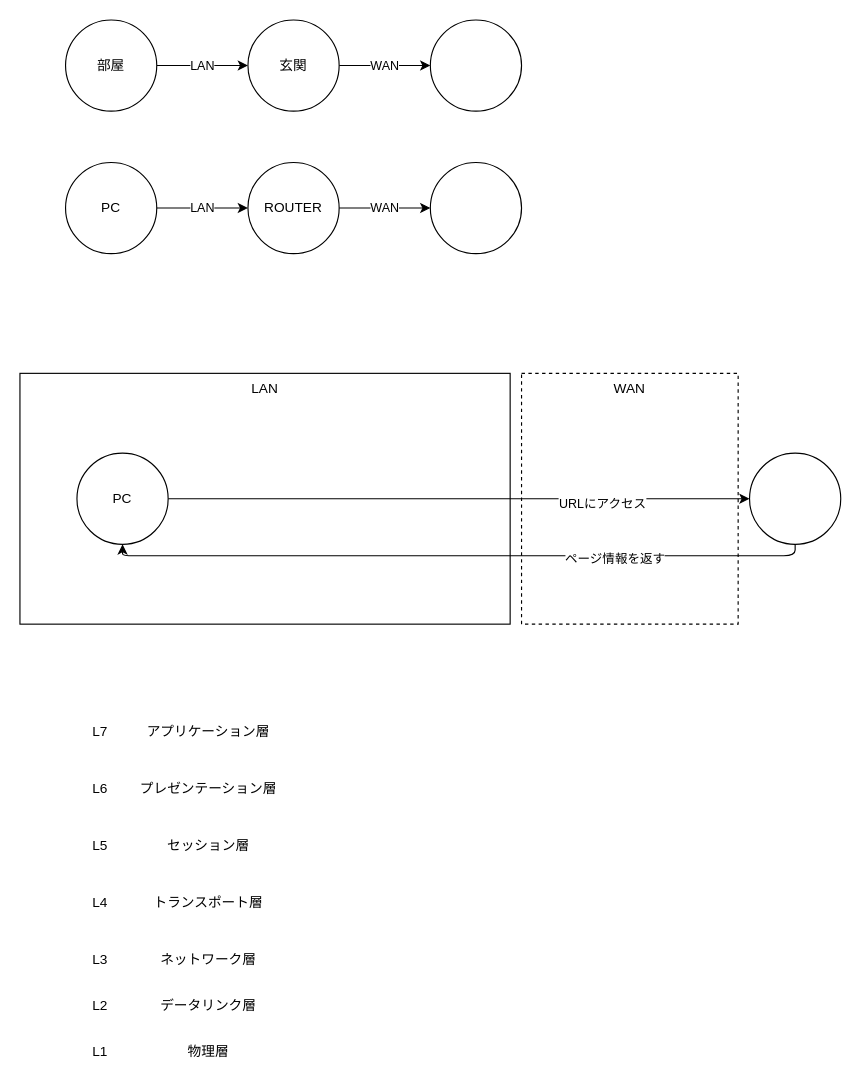
Image size: 861x1089. Some labels were removed from this diagram. Here are the shapes that lost their labels. From the top down, the centre of each, then its label:
At pixel 475 65: "お店".
At pixel 475 207: "INTERNET".
At pixel 794 498: "ショッピングサイト運営企業".
